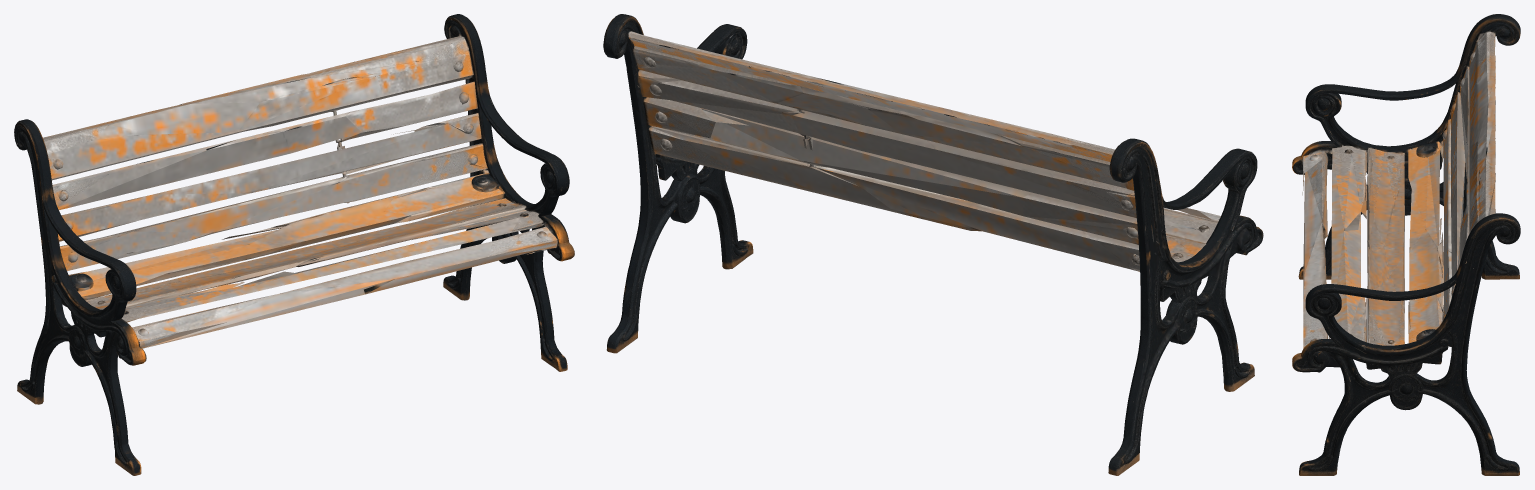
Rendered from park_bench.glb.
The picture shows the model from 3 angles, left to right: view 1: azimuth 30°, elevation 25°; view 2: azimuth 150°, elevation 25°; view 3: azimuth 270°, elevation 25°; orthographic projection. The views are drawn at different scales.
Bounding box in the file's own units: 1.9 × 1.12 × 0.8902.
Materials: 1 (1 with a texture image).
